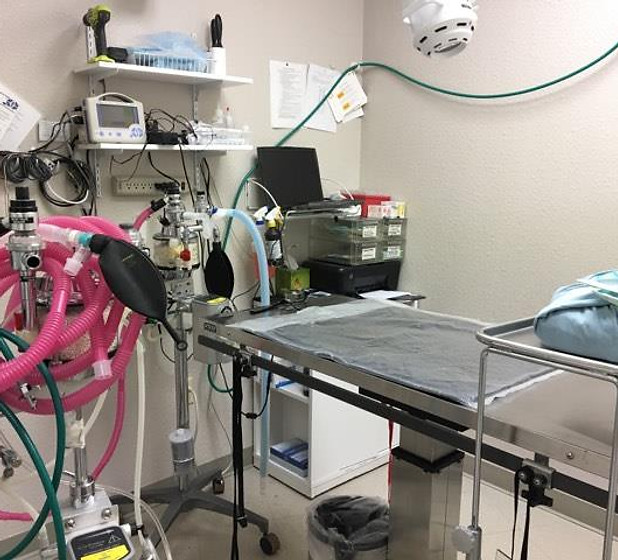breathing_tube: (3, 211, 139, 427)
operating_bed: (188, 290, 618, 547)
waste_bin: (307, 493, 388, 560)
